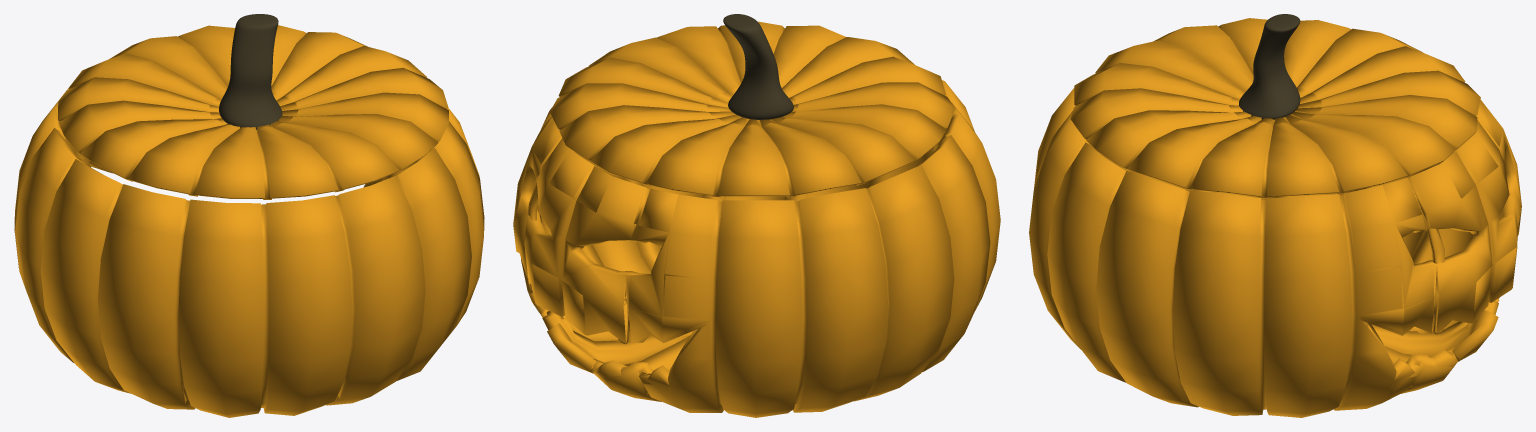
The model's file is pupmkn.fbx.
3 views of the same model, side by side, from view 1: azimuth 30°, elevation 25°; view 2: azimuth 150°, elevation 25°; view 3: azimuth 270°, elevation 25° (orthographic). The views are drawn at different scales.
Parts seen in each view (by area): view 1: Cube.008, Cube.001; view 2: Cube.008, Cube.001; view 3: Cube.008, Cube.001.
Part boxes in pixels (x1,y1,x2,y2): Cube.008: (14, 88, 484, 417); Cube.001: (58, 14, 448, 199); Cube.008: (513, 80, 1000, 417); Cube.001: (550, 14, 955, 197); Cube.008: (1029, 88, 1521, 417); Cube.001: (1070, 14, 1480, 198).
Bounding box in the file's own units: 703 × 532 × 713.
